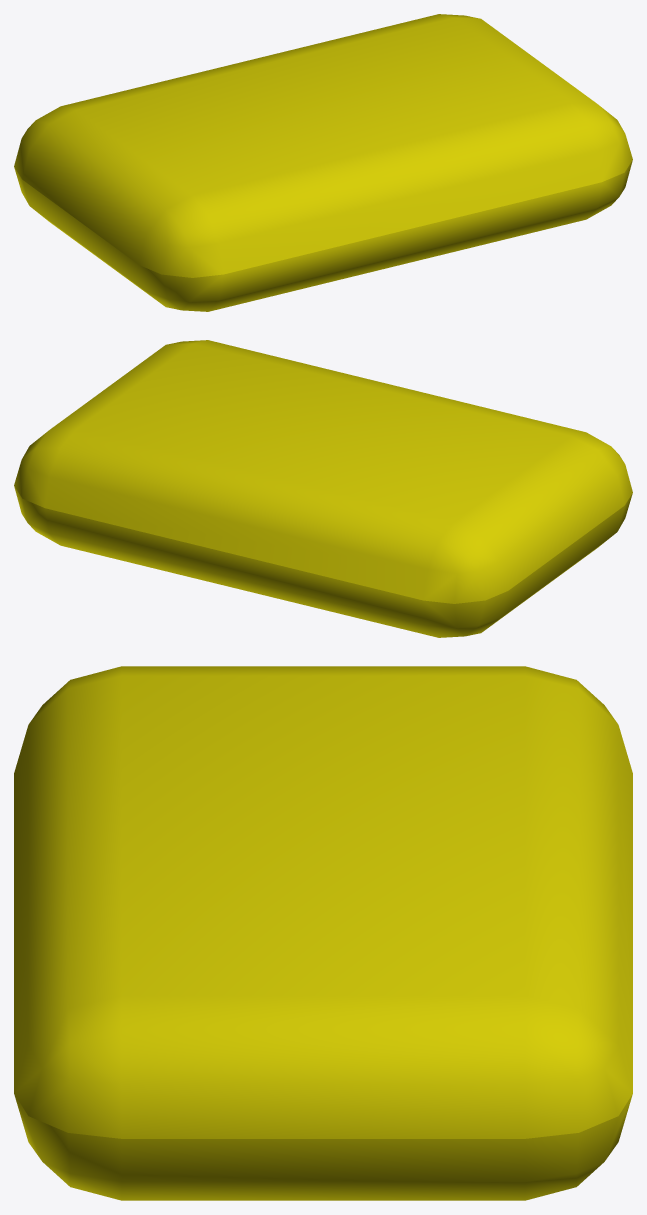
Rendered from retangulo verde.fbx.
3 renders of one model, top to bottom at view 1: azimuth 30°, elevation 25°; view 2: azimuth 150°, elevation 25°; view 3: azimuth 270°, elevation 25°, orthographic. The views are drawn at different scales.
Parts seen in each view (by area): view 1: Cube.002; view 2: Cube.002; view 3: Cube.002.
Boxes of the visible parts, x1,y1,x2,y2 form: Cube.002: [14, 14, 632, 311]; Cube.002: [14, 340, 632, 637]; Cube.002: [14, 666, 632, 1200].
Size of the model in its own units: 0.3699 by 0.082 by 0.2355.
